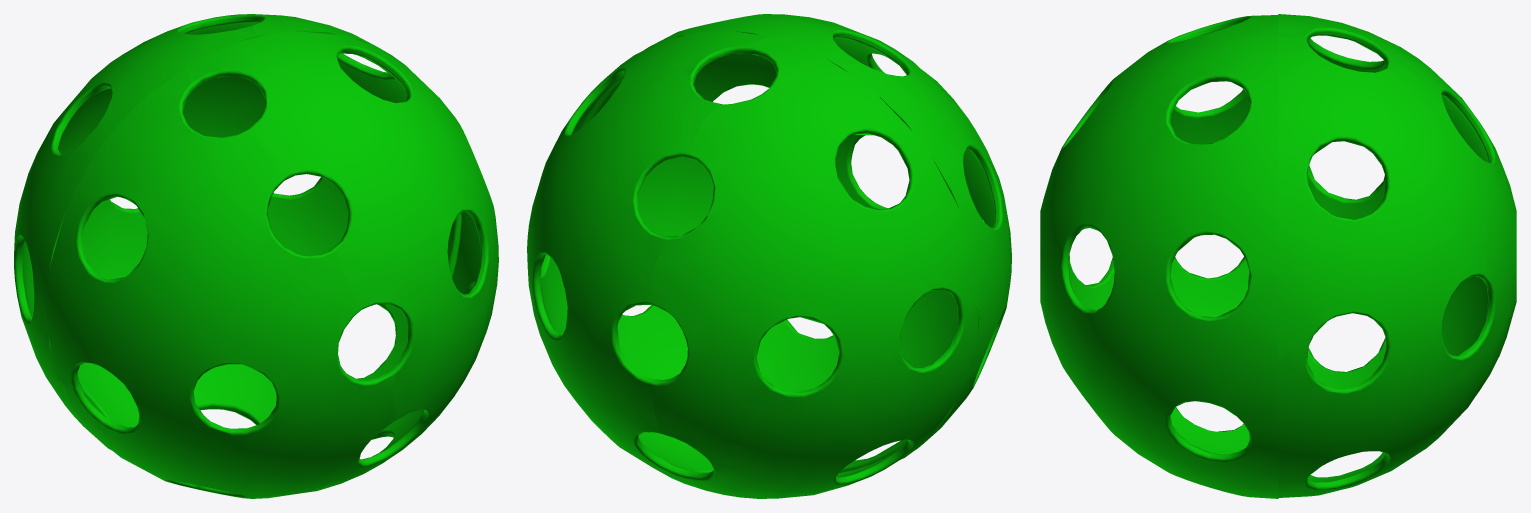
Rendered from decode-artifact-green.glb.
3 renders of one model, left to right at view 1: azimuth 30°, elevation 25°; view 2: azimuth 150°, elevation 25°; view 3: azimuth 270°, elevation 25°, orthographic.
Bounding box in the file's own units: 0.127 × 0.127 × 0.1247.
